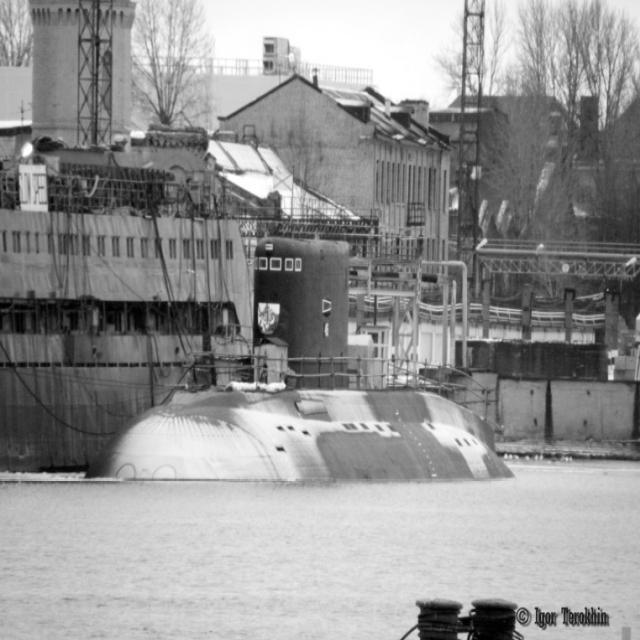submarine: (80, 235, 513, 483)
